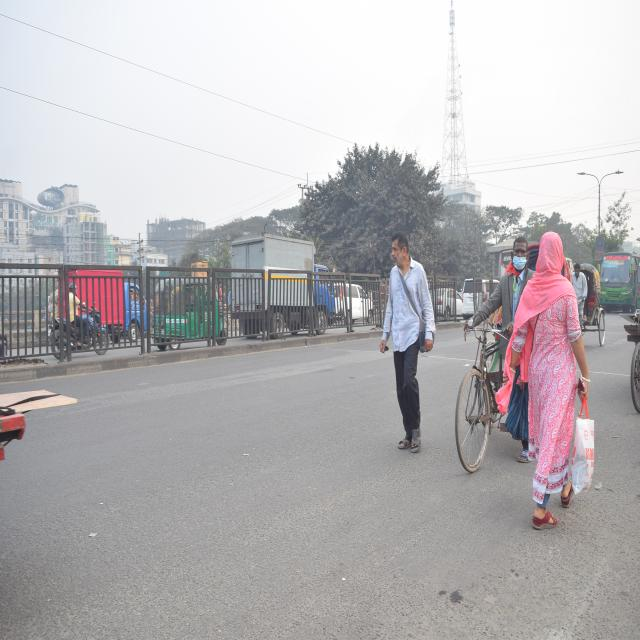bus: (600, 250, 640, 319)
car: (328, 273, 376, 324), (428, 287, 460, 320)
microbus: (464, 273, 501, 320)
motorbike: (46, 301, 114, 364)
pickup-van: (228, 231, 330, 338), (62, 258, 154, 343)
